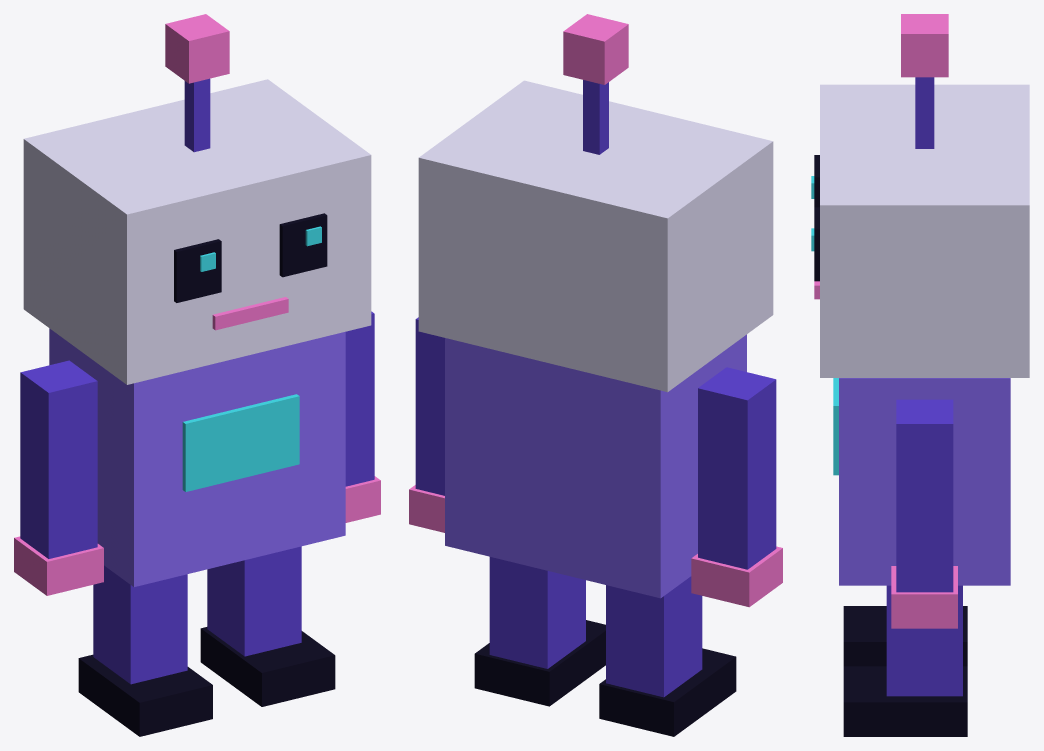
The model's file is robot.glb.
3 renders of one model, left to right at view 1: azimuth 30°, elevation 25°; view 2: azimuth 150°, elevation 25°; view 3: azimuth 270°, elevation 25°, orthographic.
Parts seen in each view (by area): view 1: robot; view 2: robot; view 3: robot.
Boxes of the visible parts, x1,y1,x2,y2 form: robot: (14,14,380,736); robot: (409,14,782,736); robot: (811,14,1029,736).
Bounding box in the file's own units: 0.41 × 0.77 × 0.229.
